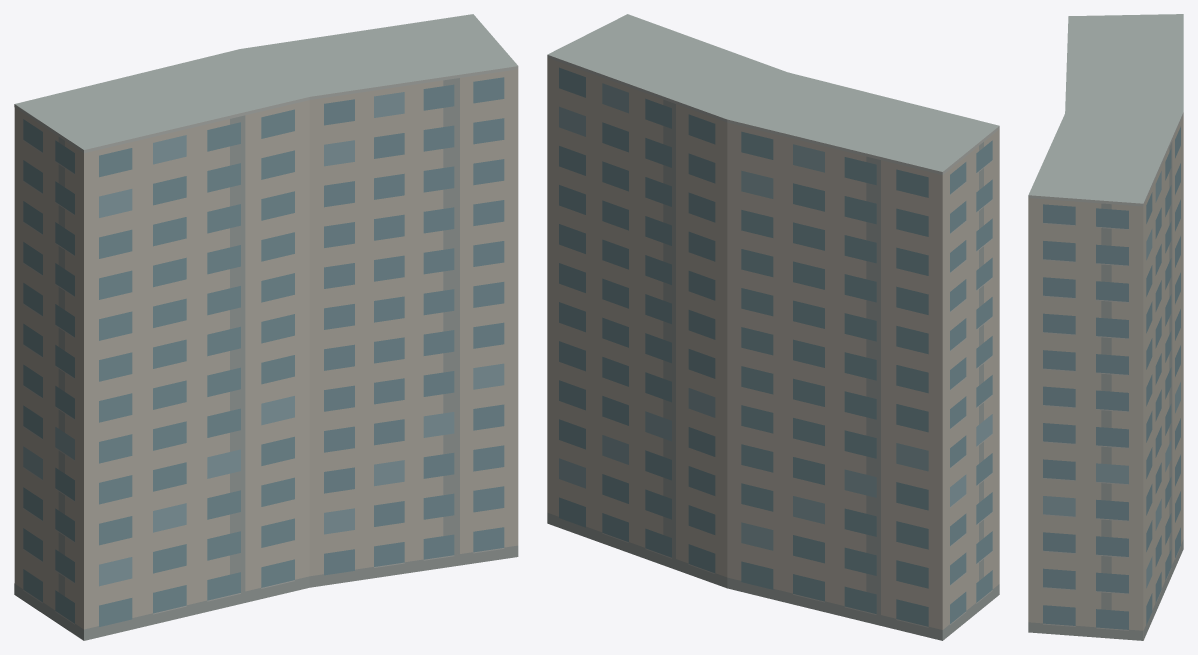
The model's file is residential-63f6ae43-4b2a-4bb1-8c01-0316c4a43fc2.glb.
3 renders of one model, left to right at view 1: azimuth 30°, elevation 25°; view 2: azimuth 150°, elevation 25°; view 3: azimuth 270°, elevation 25°, orthographic. The views are drawn at different scales.
Visible parts, largest first — view 1: residential-63f6ae43-4b2a-4bb1-8c01-0316c4a43fc2.tmp; view 2: residential-63f6ae43-4b2a-4bb1-8c01-0316c4a43fc2.tmp; view 3: residential-63f6ae43-4b2a-4bb1-8c01-0316c4a43fc2.tmp.
Boxes of the visible parts, x1,y1,x2,y2 form: residential-63f6ae43-4b2a-4bb1-8c01-0316c4a43fc2.tmp: (14, 14, 518, 640); residential-63f6ae43-4b2a-4bb1-8c01-0316c4a43fc2.tmp: (547, 14, 999, 640); residential-63f6ae43-4b2a-4bb1-8c01-0316c4a43fc2.tmp: (1028, 14, 1183, 640).
Bounding box in the file's own units: 34.44 × 37 × 11.92.
